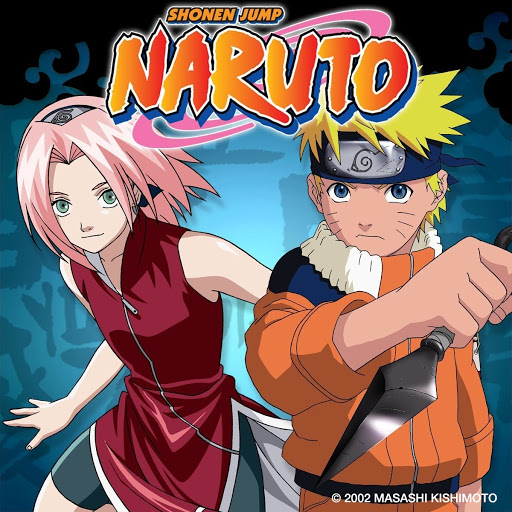naruto: (307, 125, 448, 255)
sakura: (24, 95, 151, 258)
